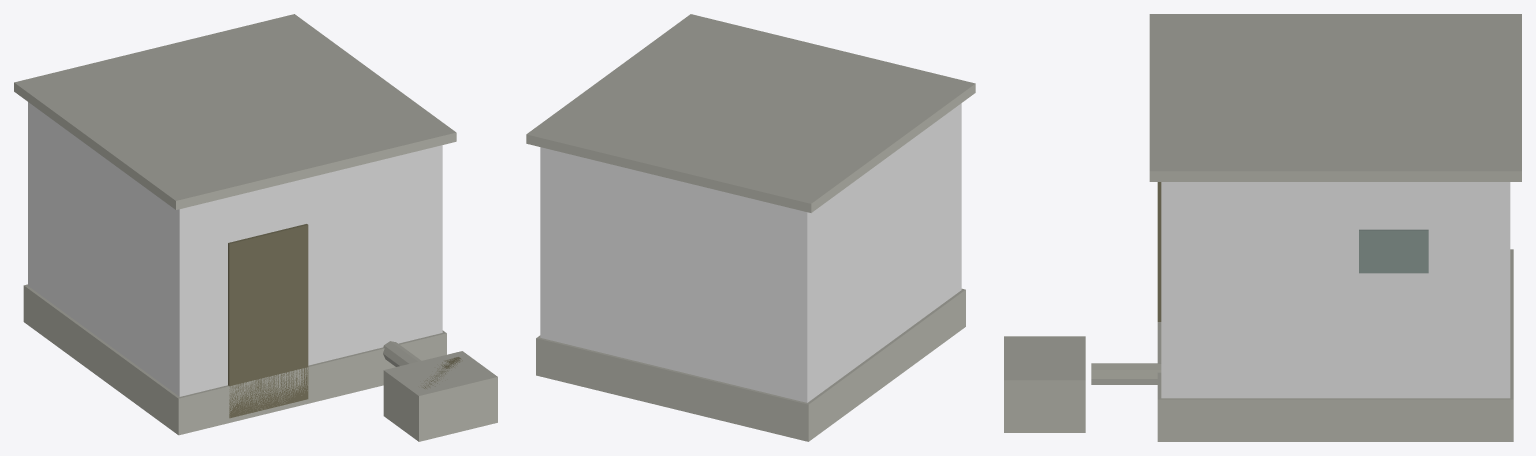
File: SM_CasetaPozo_v0_Encalada_LOD0.fbx
3 renders of one model, left to right at view 1: azimuth 30°, elevation 25°; view 2: azimuth 150°, elevation 25°; view 3: azimuth 270°, elevation 25°, orthographic. The views are drawn at different scales.
Visible parts, largest first — view 1: SM_huerta_nules_v0_LOD0; view 2: SM_huerta_nules_v0_LOD0; view 3: SM_huerta_nules_v0_LOD0.
Boxes of the visible parts, x1,y1,x2,y2 form: SM_huerta_nules_v0_LOD0: (14, 14, 497, 441); SM_huerta_nules_v0_LOD0: (526, 14, 975, 441); SM_huerta_nules_v0_LOD0: (1004, 14, 1521, 441).
Size of the model in its own units: 3.2 by 2.6 by 4.45.
